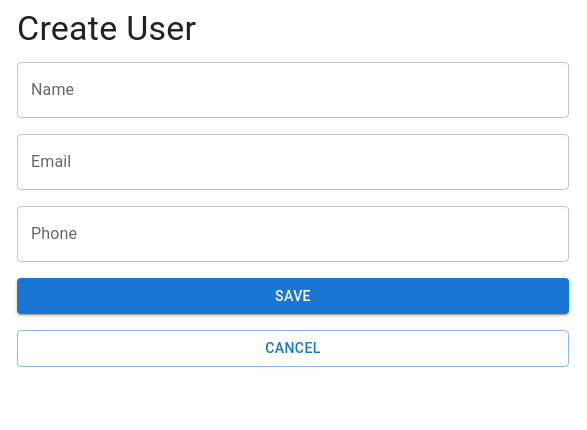
Scenario: UserForm › validates email format
In the field labelled "Email": {"x": 293, "y": 162} [17,134,569,190], type "invalid-email"
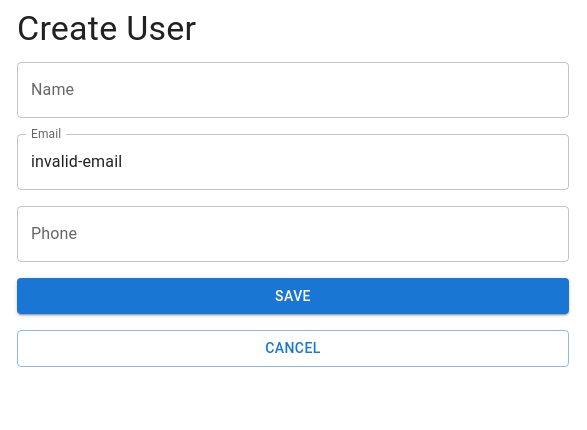
Click the button "Save": {"x": 293, "y": 296} [17,278,569,314]
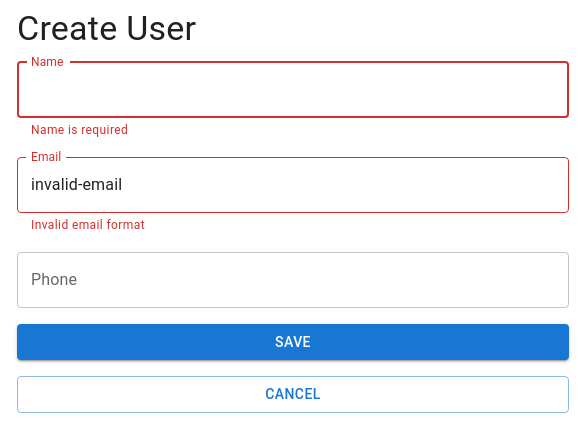
Check: the text "Invalid email format" is shown, box [31,218,145,232]
